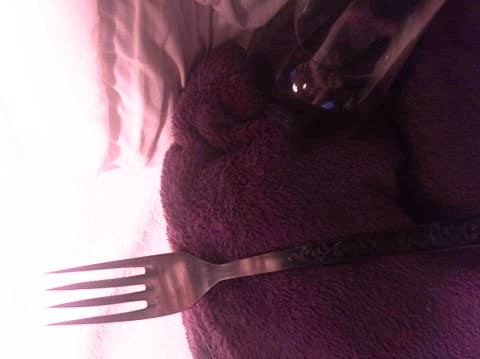Widelec: (36, 251, 216, 328)
